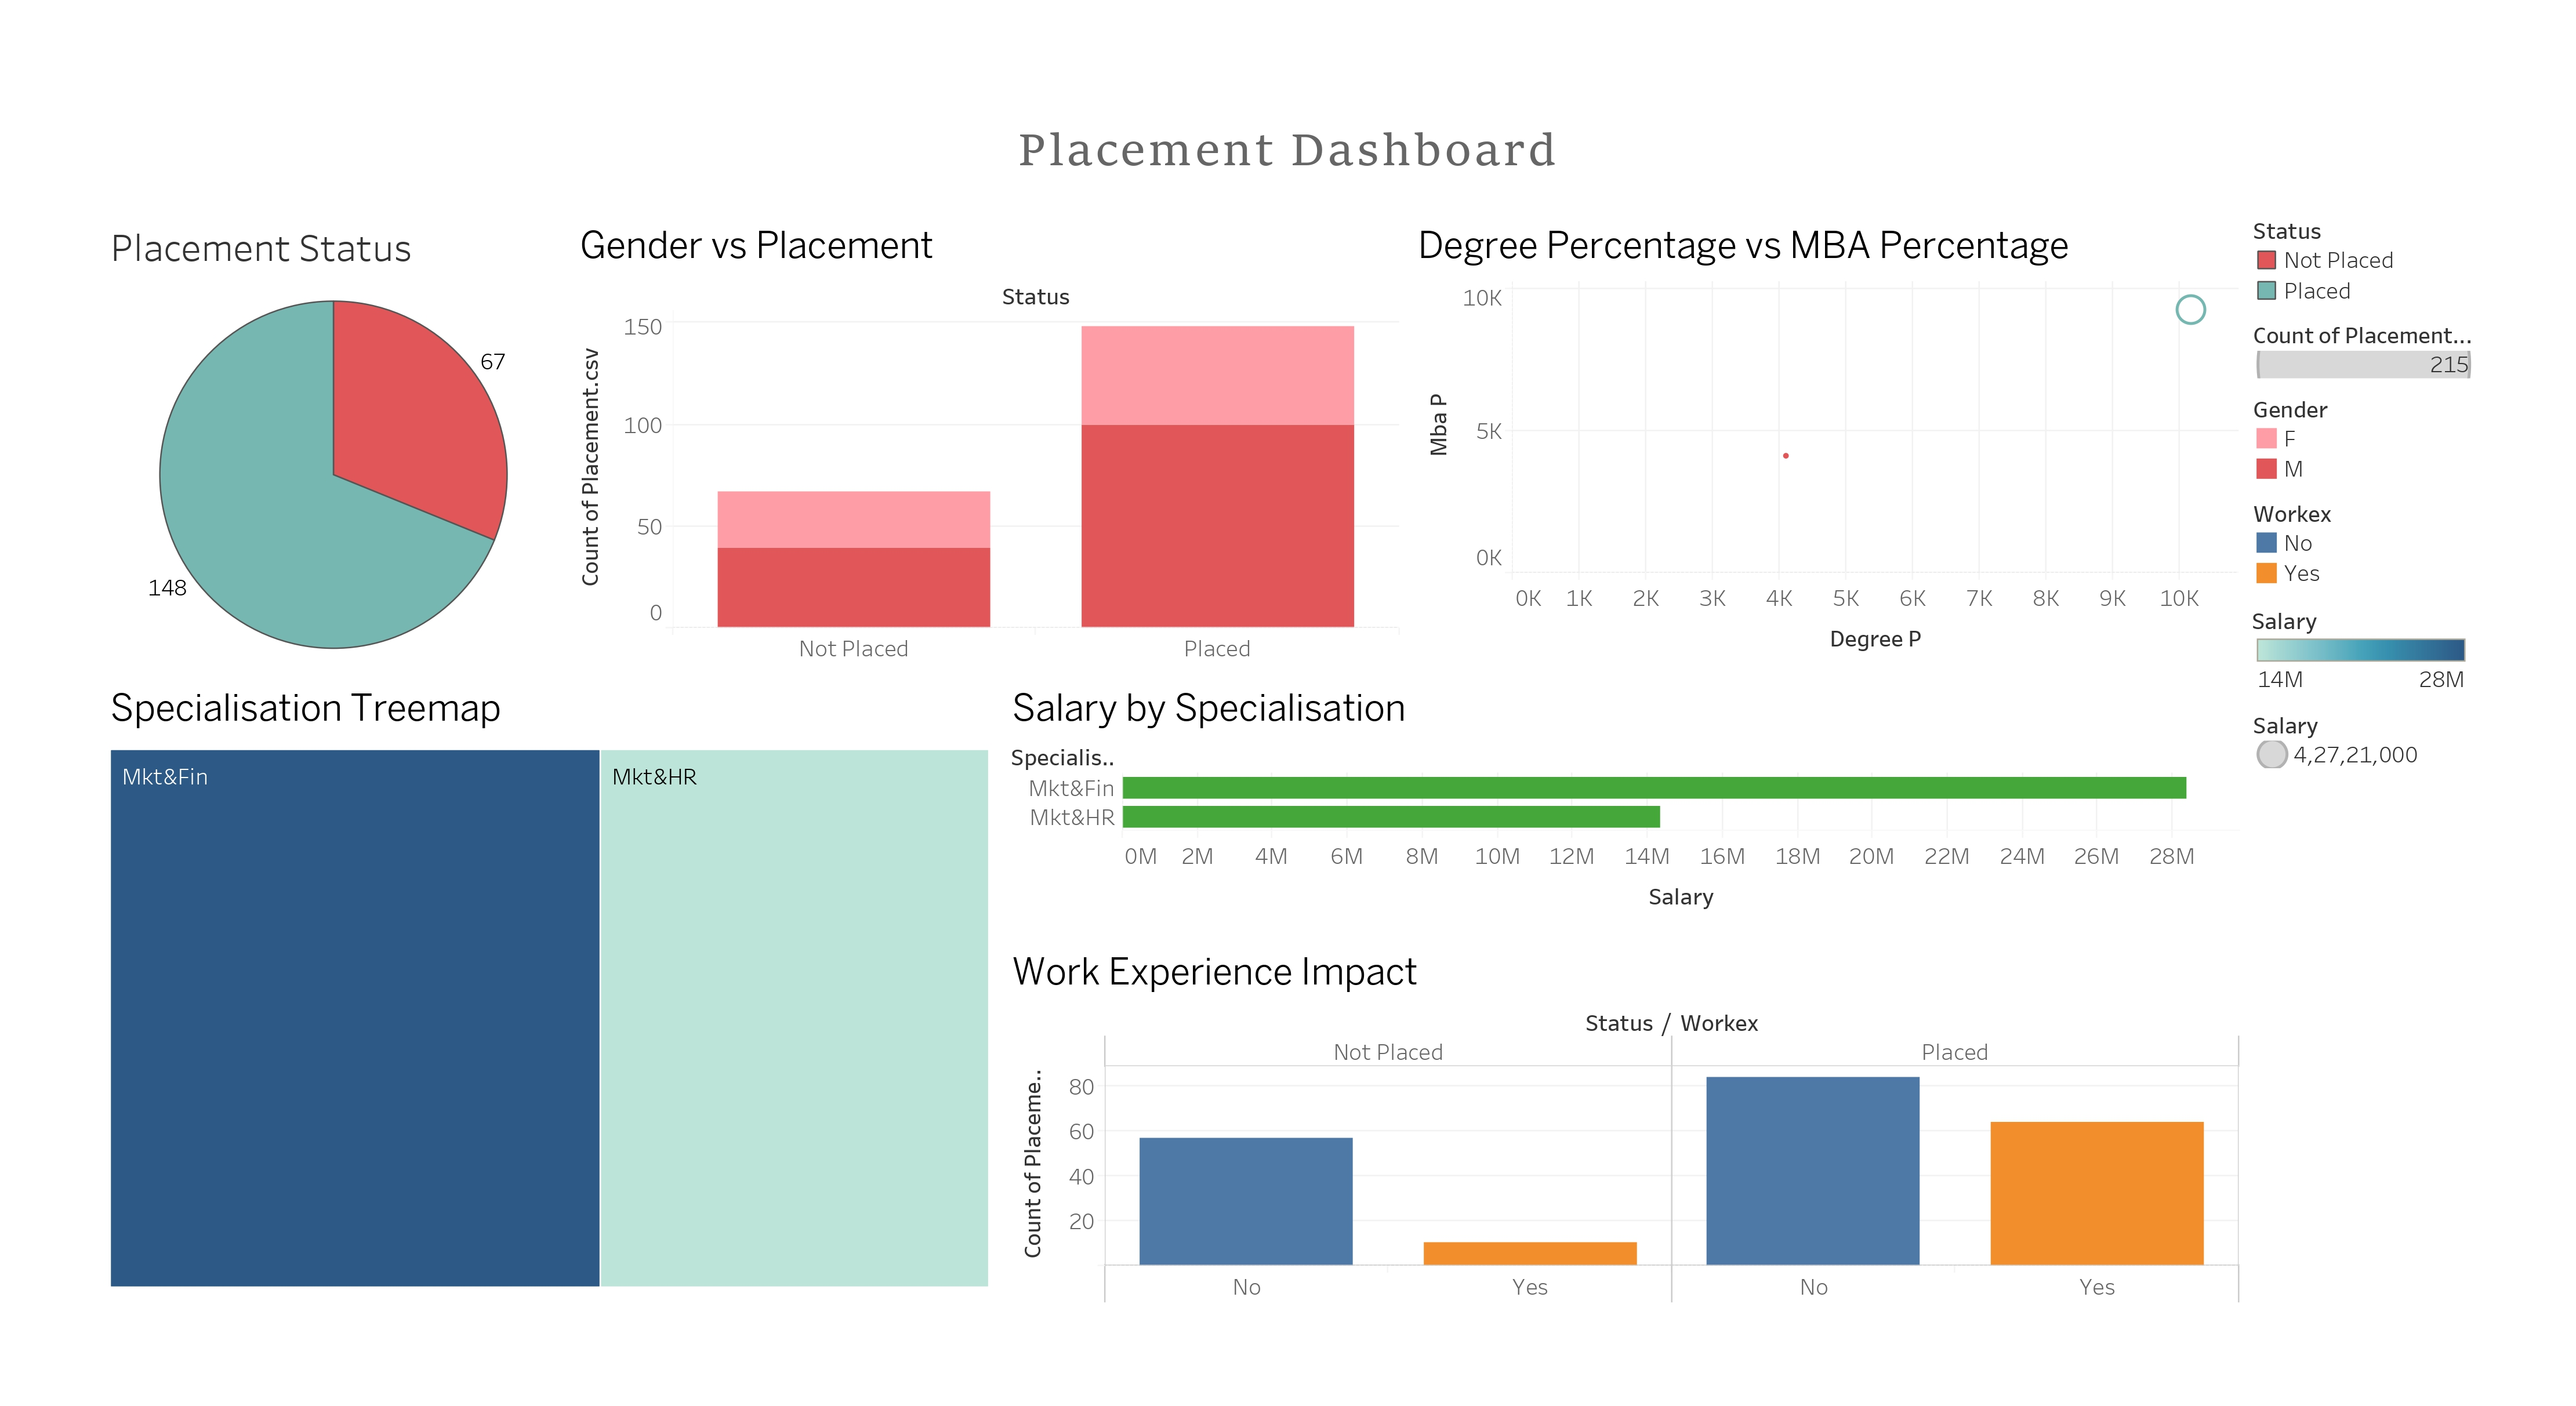

This screenshot's page, from the dashboard's own definition file:
{"tool":"tableau","page":{"name":"Dashboard 1","canvas":[1657,851],"ordinal":0},"visuals":[{"type":"text","box":[8,8,1641,75]},{"type":"worksheet","title":"Sheet 1","mark":"Pie","box":[8,83,324,319]},{"type":"worksheet","title":"Sheet 2","mark":"Automatic","rows":["Placement.csv_66262F4FCC774E2292AA168C5B72C633"],"cols":["status"],"box":[332,83,578.5,319]},{"type":"worksheet","title":"Sheet 5","mark":"Automatic","rows":["mba_p"],"cols":["degree_p"],"box":[910.5,83,578.5,319]},{"type":"legend","title":"Sheet 1","param":"[federated.0vz2xcj1aoyq6t187rodj0gogofv].[none:status:nk]","box":[1489,83,160,72]},{"type":"legend","title":"Sheet 1","param":"[federated.0vz2xcj1aoyq6t187rodj0gogofv].[__tableau_internal_object_id__].[cnt:P","box":[1489,155,160,51]},{"type":"legend","title":"Sheet 2","param":"[federated.0vz2xcj1aoyq6t187rodj0gogofv].[none:gender:nk]","box":[1489,206,160,72]},{"type":"legend","title":"Sheet 3","param":"[federated.0vz2xcj1aoyq6t187rodj0gogofv].[none:workex:nk]","box":[1489,278,160,72]},{"type":"legend","title":"Sheet 4","param":"[federated.0vz2xcj1aoyq6t187rodj0gogofv].[sum:salary:qk]","box":[1489,350,160,73]},{"type":"worksheet","title":"Sheet 4","mark":"Automatic","box":[8,402,622,441]},{"type":"worksheet","title":"Sheet 6","mark":"Automatic","rows":["specialisation"],"cols":["salary"],"box":[630,402,859,182]},{"type":"legend","title":"Sheet 5","param":"[federated.0vz2xcj1aoyq6t187rodj0gogofv].[sum:salary:qk]","box":[1489,423,160,51]},{"type":"worksheet","title":"Sheet 3","mark":"Automatic","rows":["Placement.csv_66262F4FCC774E2292AA168C5B72C633"],"cols":["status","workex"],"box":[630,584,859,259]}]}

Visuals, with their boxes in screenshot pixels (x1, y1, x2, y2):
text: [106, 126, 2533, 237]
"Sheet 1" worksheet (Pie marks): [106, 237, 585, 709]
"Sheet 2" worksheet: [585, 237, 1441, 709]
"Sheet 5" worksheet: [1441, 237, 2296, 709]
"Sheet 1" legend: [2296, 237, 2533, 343]
"Sheet 1" legend: [2296, 343, 2533, 419]
"Sheet 2" legend: [2296, 419, 2533, 525]
"Sheet 3" legend: [2296, 525, 2533, 631]
"Sheet 4" legend: [2296, 631, 2533, 739]
"Sheet 4" worksheet: [106, 709, 1025, 1360]
"Sheet 6" worksheet: [1025, 709, 2296, 978]
"Sheet 5" legend: [2296, 739, 2533, 815]
"Sheet 3" worksheet: [1025, 978, 2296, 1360]
